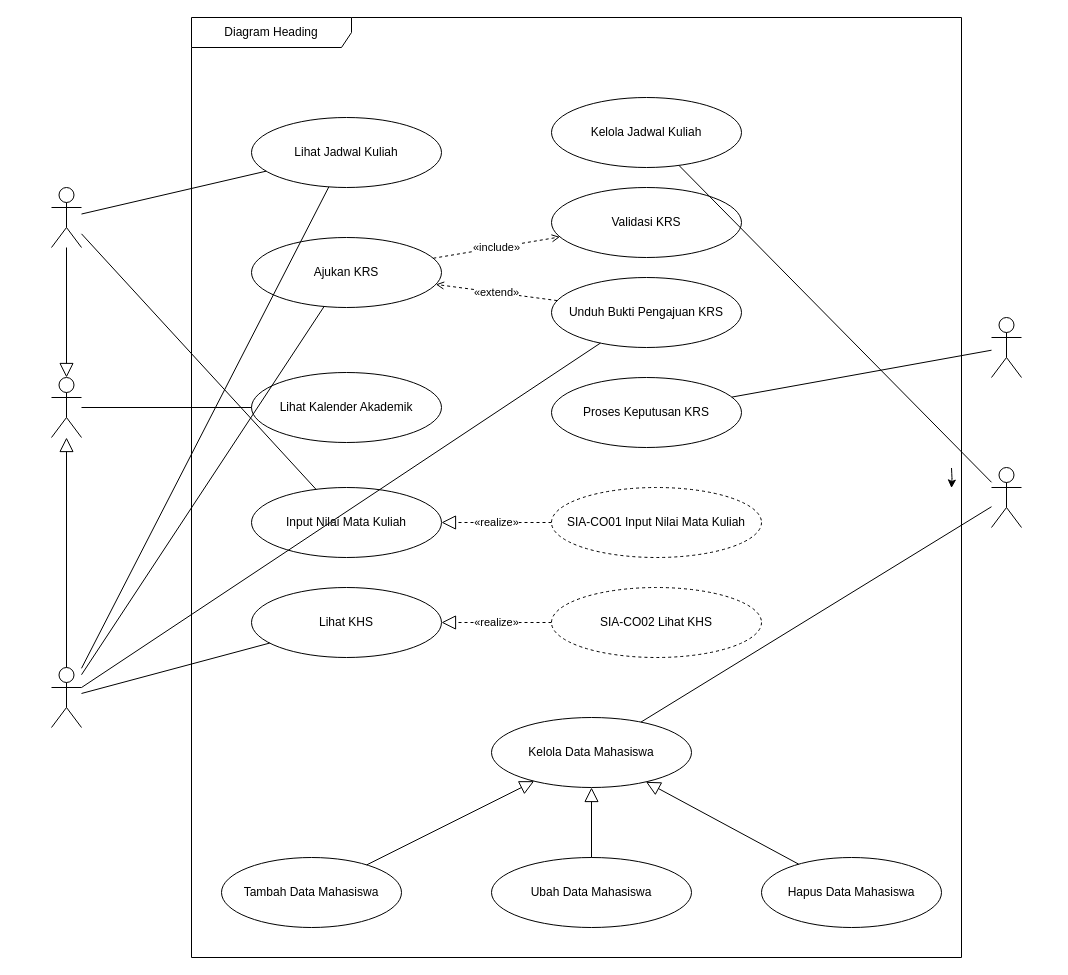
The diagram is 1068 pixels wide and 975 high, and some of its shapes have lost their labels. Each missing label, with the centre of its shape:
"Admin Akademik" goes at pixel 1006 497.
"Civitas Akademika" goes at pixel 66 407.
"Dosen" goes at pixel 66 217.
"Dosen Wali" goes at pixel 1006 347.
"Mahasiswa" goes at pixel 66 697.
